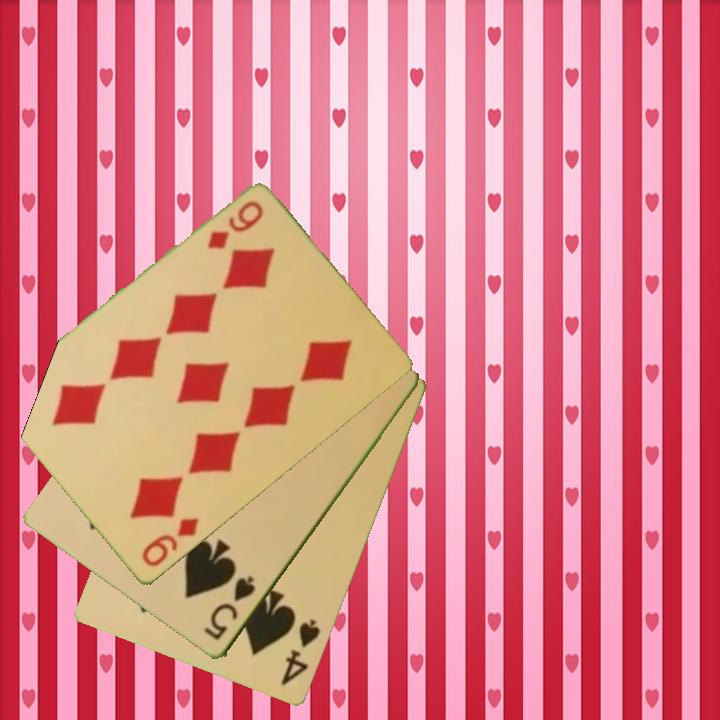4s: (278, 615, 323, 689)
5s: (200, 572, 259, 644)
9d: (137, 514, 202, 571), (203, 197, 266, 254)
